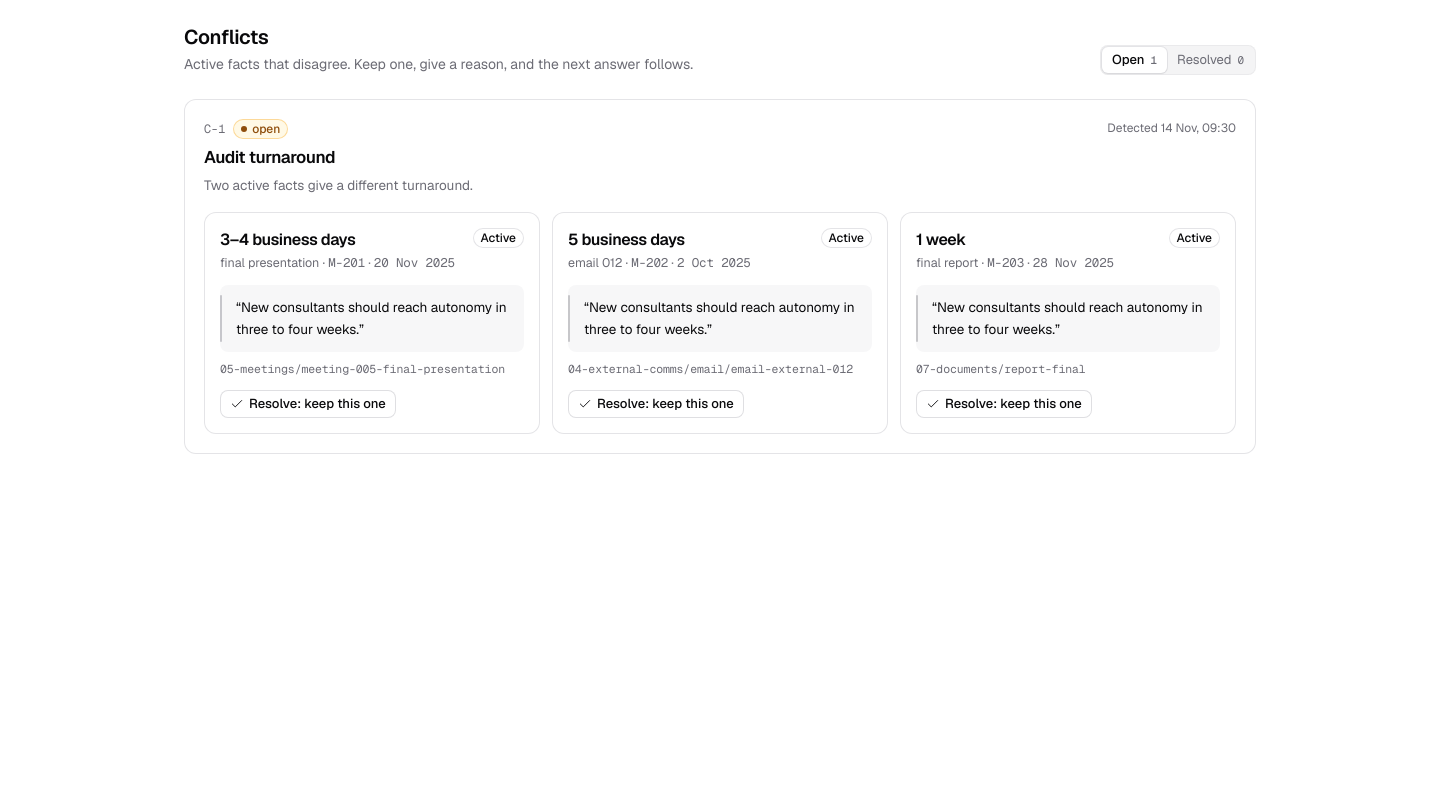
Test: Conflicts › resolving › counts the other facts of a three-way conflict
Expected: the text "C-1" is shown, [204,120,225,138]
Click the 1st button "Resolve: keep this one".
click(308, 404)  # box [220,390,396,418]
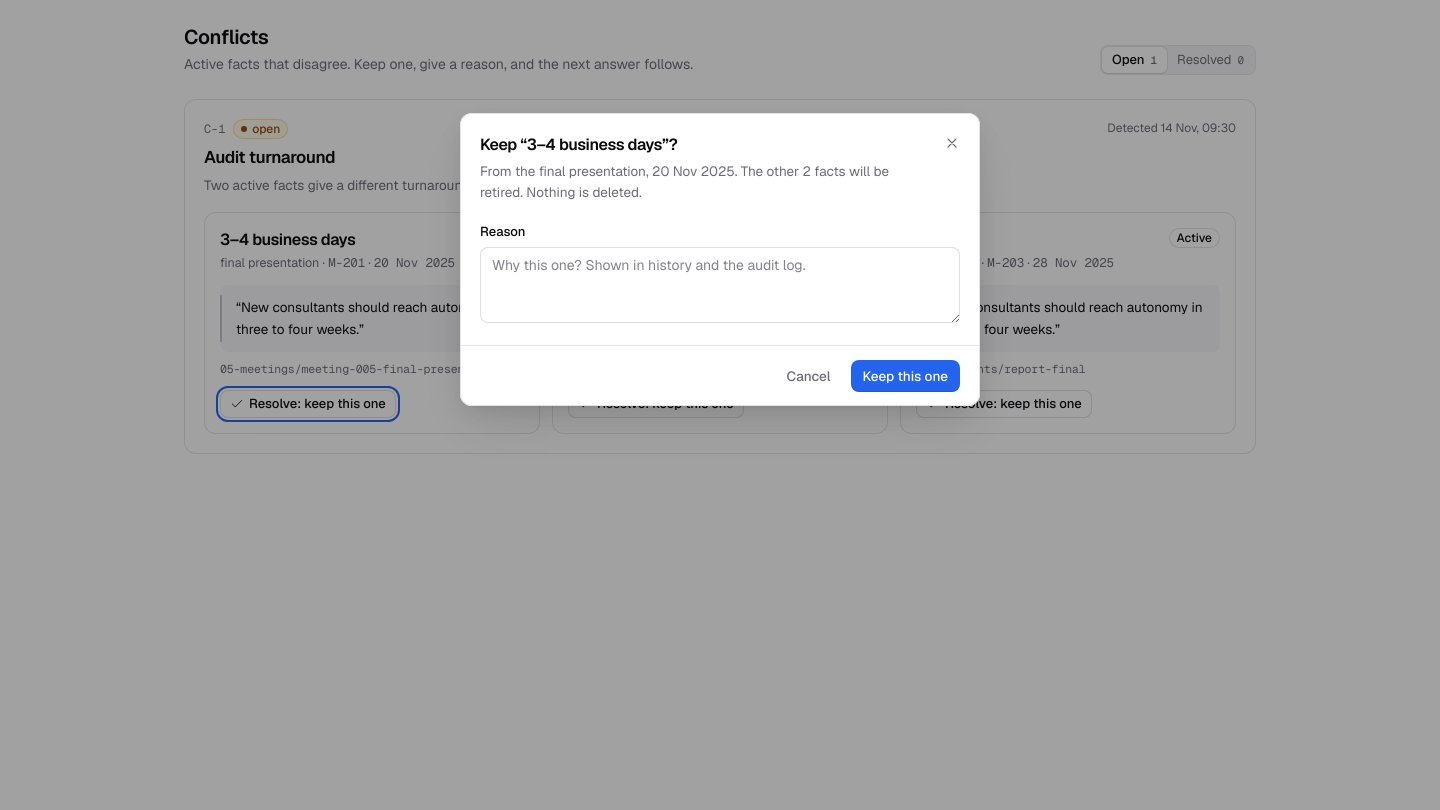
Result: the text "The other 2 facts will be retired" is shown at [480,162,889,201]
